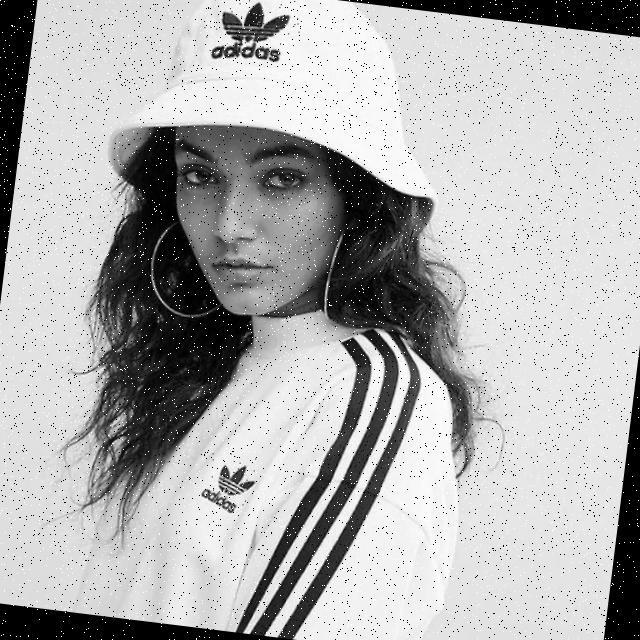Adidas: (200, 0, 304, 61), (205, 451, 258, 506)
